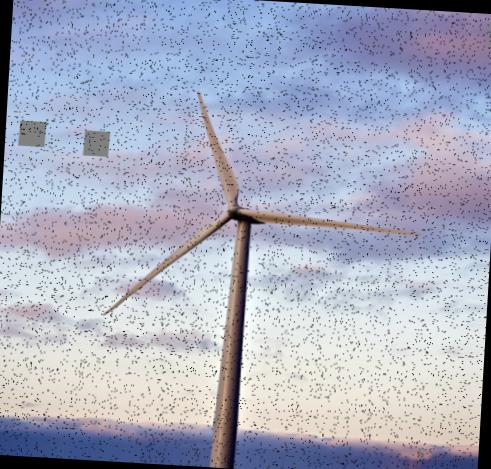wind turbine: (99, 88, 424, 437)
